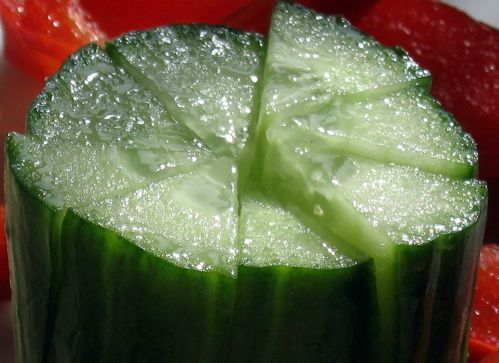cucumber: (3, 0, 489, 361)
